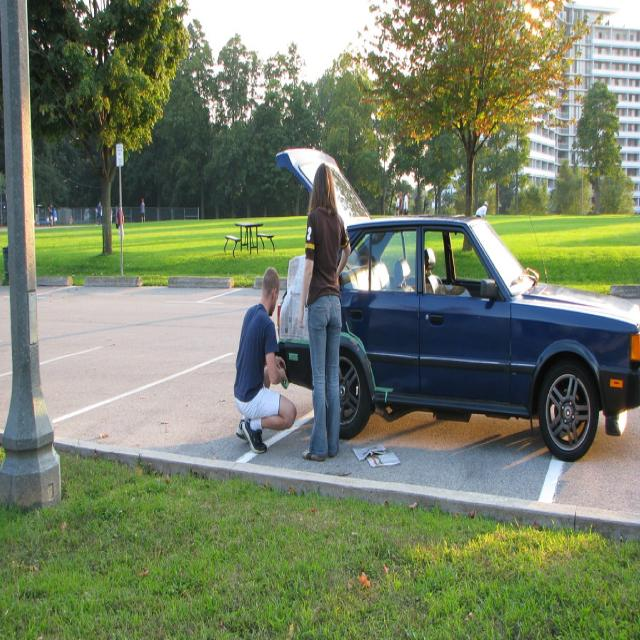car: (303, 210, 623, 452)
